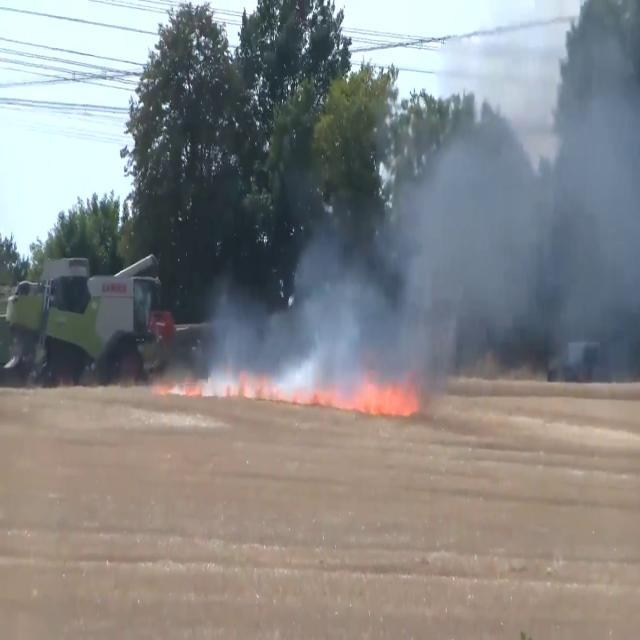Fire: (338, 360, 421, 410)
Smoke: (343, 1, 640, 387)
